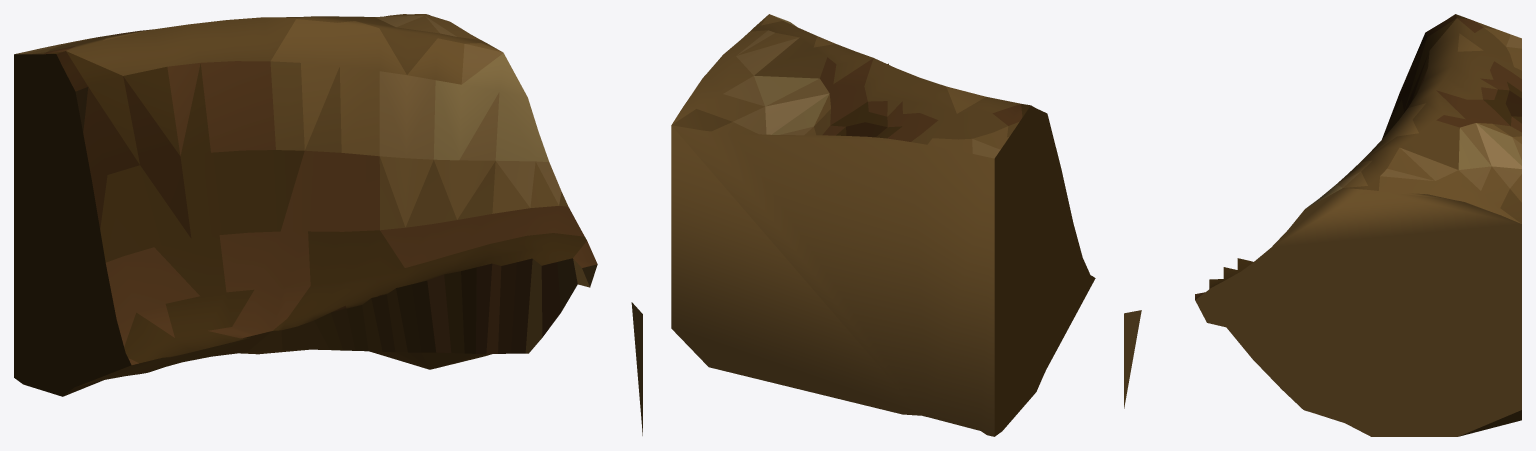
The model's file is newsh3-279.glb.
3 views of the same model, side by side, from view 1: azimuth 30°, elevation 25°; view 2: azimuth 150°, elevation 25°; view 3: azimuth 270°, elevation 25° (orthographic). The views are drawn at different scales.
Visible parts, largest first — view 1: newsh3-279; view 2: newsh3-279; view 3: newsh3-279.
Part boxes in pixels (x1,y1,x2,y2): newsh3-279: [14, 14, 642, 435]; newsh3-279: [671, 14, 1095, 436]; newsh3-279: [1124, 14, 1521, 436].
Size of the model in its own units: 2 by 1.8 by 2.33.
